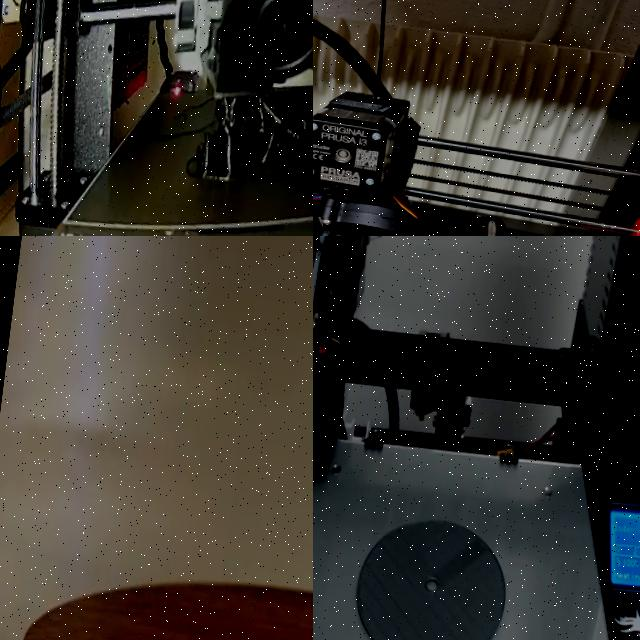spaghetti: (313, 171, 640, 236), (241, 87, 313, 170)
